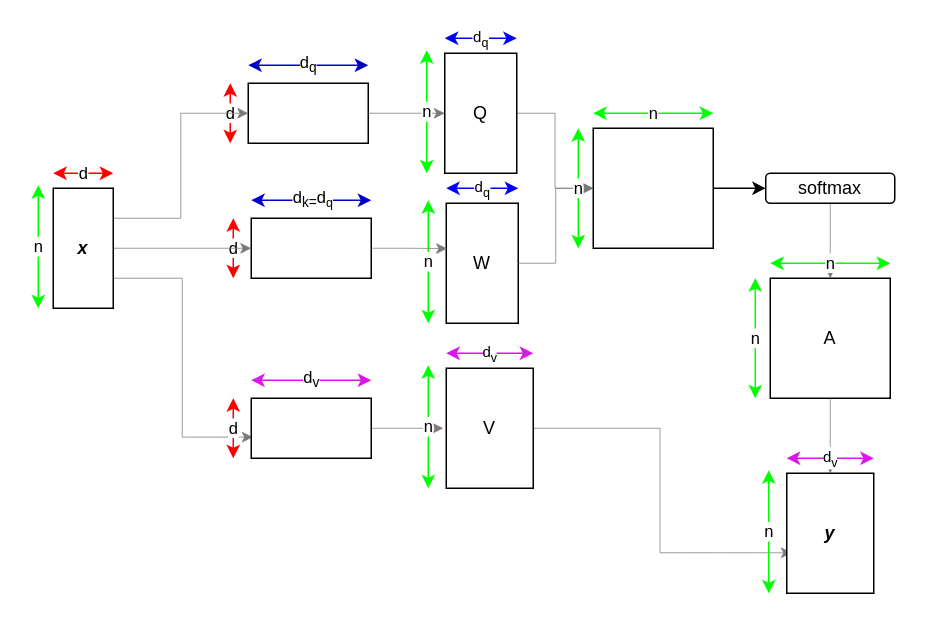
Some shapes in this 930 by 633 pixel diagram are drawn without their labels. Each missing label, with the centre of its shape:
QK T: pixel 652 187
W k T: pixel 310 247
W q T: pixel 307 112
W v T: pixel 310 427
